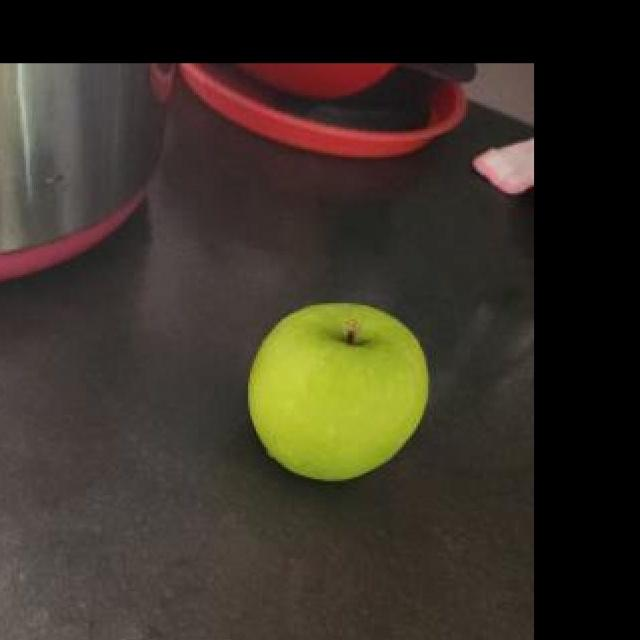green apple: (244, 301, 431, 483)
